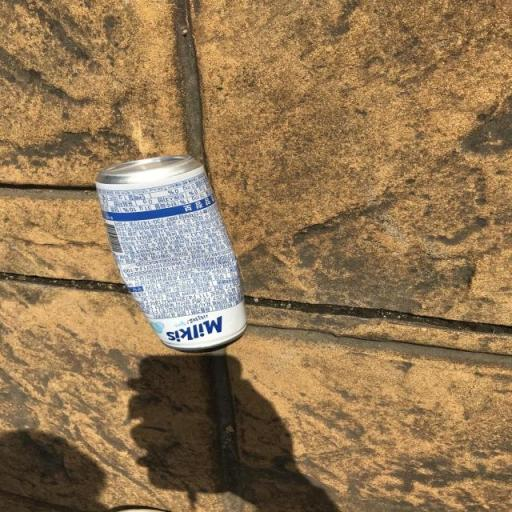metal: (63, 136, 271, 365)
